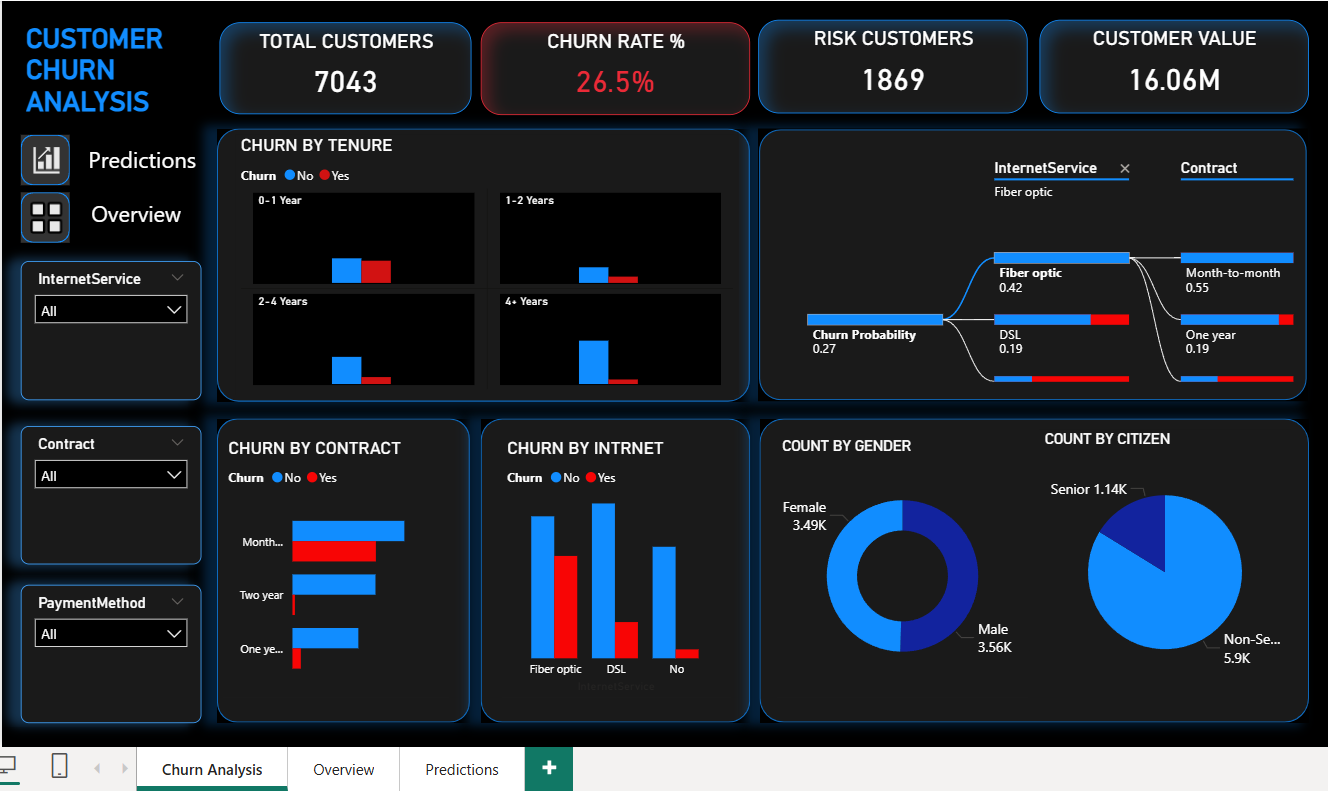

The page's visual inventory and layout, read from the dashboard file:
{"tool":"powerbi","page":{"name":"Churn Analysis","canvas":[1280,720],"ordinal":0},"visuals":[{"type":"card","title":"TOTAL CUSTOMERS","fields":{"Values":["Telco.Total Customers"]},"box":[209.5,20.3,243.2,89.2],"z":0},{"type":"card","title":"CHURN RATE %","fields":{"Values":["Telco.Churn Rate %"]},"box":[461.7,20.2,259.7,89.5],"z":1000},{"type":"card","title":"RISK CUSTOMERS","fields":{"Values":["Telco.Risk Customers"]},"box":[730.5,18.3,259.8,90.2],"z":2000},{"type":"card","title":"CUSTOMER VALUE","fields":{"Values":["Telco.CUSTOMER VALUE"]},"box":[1001.2,18.3,259.8,90.2],"z":3000},{"type":"shape","box":[207.8,402.5,244.1,293.5],"z":4000},{"type":"shape","box":[462,402.5,260.1,293.5],"z":5000},{"type":"shape","box":[730.8,402.5,530.3,293.5],"z":6000},{"type":"shape","box":[207.8,123.4,514.3,263.6],"z":7000},{"type":"shape","box":[730.5,123.2,530.5,263.4],"z":8000},{"type":"decompositionTreeVisual","fields":{"Analyze":["Telco.Churn Probability"],"ExplainBy":["Telco.InternetService","Telco.Contract"]},"box":[748.5,136.3,503.7,236.5],"z":9000},{"type":"slicer","fields":{"Values":["Telco.InternetService"]},"box":[17.9,251.3,174.4,134.6],"z":10000},{"type":"slicer","fields":{"Values":["Telco.Contract"]},"box":[17.9,410.3,174.4,133.3],"z":11000},{"type":"slicer","fields":{"Values":["Telco.PaymentMethod"]},"box":[17.9,562.8,174.4,133.3],"z":12000},{"type":"textbox","title":"CUSTOMER CHURN ANALYSIS","box":[17.9,20.5,167.9,94.9],"z":13000},{"type":"clusteredBarChart","title":"CHURN BY CONTRACT","fields":{"Category":["Telco.Contract"],"Series":["Telco.Churn"],"Y":["CountNonNull(Telco.customerID)"]},"box":[213.6,421.3,217.9,251.4],"z":14000},{"type":"donutChart","title":"COUNT BY GENDER","fields":{"Category":["Telco.gender"],"Y":["CountNonNull(Telco.customerID)"]},"box":[748.2,421.3,242.6,251.4],"z":15000},{"type":"pieChart","title":"COUNT BY CITIZEN","fields":{"Category":["Telco.SeniorCitizen"],"Y":["CountNonNull(Telco.customerID)"]},"box":[1001,414.1,242.6,258.6],"z":16000},{"type":"clusteredColumnChart","title":"CHURN BY INTRNET","fields":{"Category":["Telco.InternetService"],"Series":["Telco.Churn"],"Y":["CountNonNull(Telco.customerID)"]},"box":[482.4,421.3,220.8,251.4],"z":17000},{"type":"clusteredColumnChart","title":"CHURN BY TENURE","fields":{"Rows":["Telco.Tenure Bucket"],"Series":["Telco.Churn"],"Y":["CountNonNull(Telco.customerID)"]},"box":[225.2,129.3,485.3,251.4],"z":18000},{"type":"actionButton","box":[17.9,38.5,174.4,57.7],"z":19000},{"type":"actionButton","box":[66.2,125.7,143.2,55.4],"z":20000},{"type":"actionButton","box":[17.9,184.6,47.4,48.7],"z":21000},{"type":"actionButton","box":[82.4,175.7,174.3,58.1],"z":21001},{"type":"actionButton","box":[17.9,129.5,47.4,48.7],"z":21002}]}

Visuals, with their boxes on the page's 1280x720 design canvas (x1, y1, x2, y2). These are canvas units, not pixel positions in the 1328x791 screenshot, which may show the page scaled, cropped or inside an application window:
"TOTAL CUSTOMERS" card: 210, 20, 453, 110
"CHURN RATE %" card: 462, 20, 721, 110
"RISK CUSTOMERS" card: 730, 18, 990, 108
"CUSTOMER VALUE" card: 1001, 18, 1261, 108
shape: 208, 402, 452, 696
shape: 462, 402, 722, 696
shape: 731, 402, 1261, 696
shape: 208, 123, 722, 387
shape: 730, 123, 1261, 387
decompositionTreeVisual - Telco.Churn Probability x Telco.InternetService: 748, 136, 1252, 373
slicer - Telco.InternetService: 18, 251, 192, 386
slicer - Telco.Contract: 18, 410, 192, 544
slicer - Telco.PaymentMethod: 18, 563, 192, 696
"CUSTOMER CHURN ANALYSIS" textbox: 18, 20, 186, 115
"CHURN BY CONTRACT" clusteredBarChart: 214, 421, 432, 673
"COUNT BY GENDER" donutChart: 748, 421, 991, 673
"COUNT BY CITIZEN" pieChart: 1001, 414, 1244, 673
"CHURN BY INTRNET" clusteredColumnChart: 482, 421, 703, 673
"CHURN BY TENURE" clusteredColumnChart: 225, 129, 710, 381
actionButton: 18, 38, 192, 96
actionButton: 66, 126, 209, 181
actionButton: 18, 185, 65, 233
actionButton: 82, 176, 257, 234
actionButton: 18, 130, 65, 178
